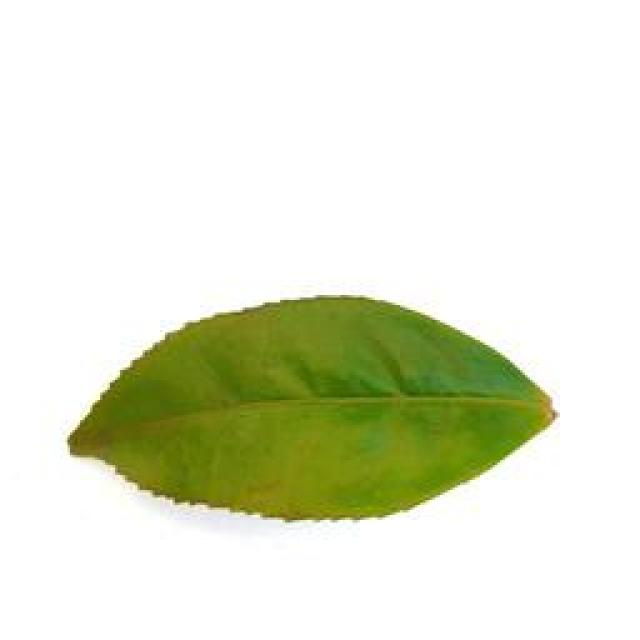Healthy: (77, 287, 560, 522)
